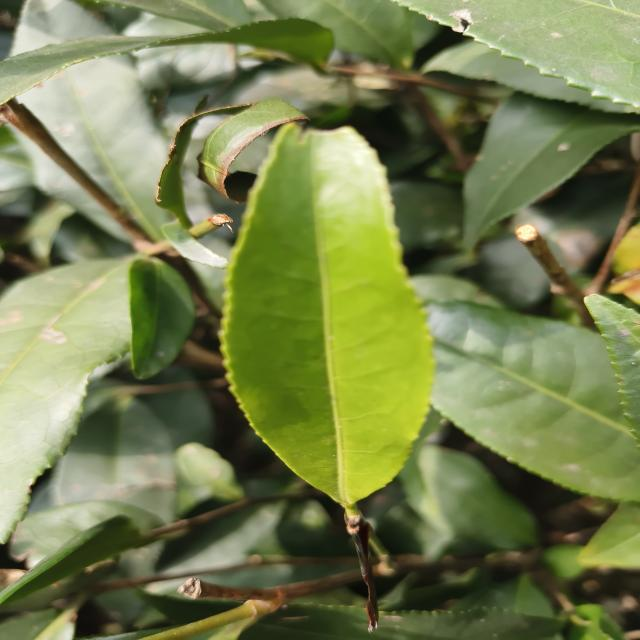Leaf: (221, 123, 433, 504), (428, 301, 640, 501), (0, 258, 132, 542), (17, 56, 172, 240), (0, 19, 332, 104), (463, 93, 640, 248), (394, 0, 640, 107), (51, 396, 175, 523), (400, 444, 538, 550), (0, 516, 151, 604), (15, 132, 124, 239), (129, 258, 195, 379), (11, 0, 112, 55), (578, 502, 640, 569)
